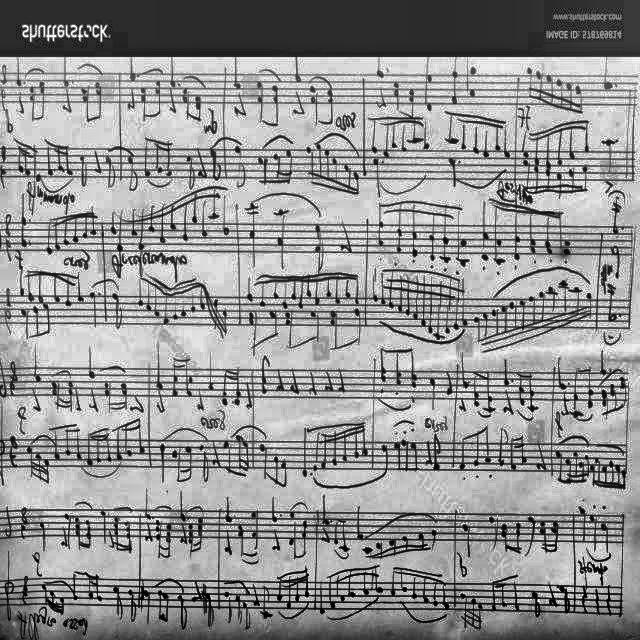Bass-clef: (3, 504, 13, 544), (0, 357, 4, 395)
Eighth-note: (176, 154, 197, 193), (374, 441, 391, 484), (294, 426, 308, 478), (598, 508, 612, 558), (230, 143, 247, 183), (110, 581, 124, 623), (102, 154, 118, 190), (252, 156, 272, 184), (75, 80, 88, 122), (124, 157, 140, 191), (573, 506, 587, 542), (590, 509, 602, 551), (314, 226, 326, 268), (570, 370, 582, 410), (24, 86, 36, 126), (526, 372, 538, 411), (313, 418, 321, 476), (481, 425, 492, 467), (509, 578, 519, 624), (257, 443, 269, 481), (210, 146, 224, 178), (20, 304, 32, 341), (223, 584, 233, 628), (352, 506, 363, 546), (354, 301, 364, 344), (328, 311, 340, 345), (498, 427, 508, 467), (247, 310, 257, 350), (271, 84, 281, 124), (390, 82, 406, 106), (434, 431, 442, 477), (38, 78, 46, 124), (225, 438, 235, 474), (398, 443, 410, 473), (553, 446, 563, 482), (393, 346, 402, 386), (457, 438, 468, 470), (80, 150, 88, 194), (95, 80, 103, 124), (378, 346, 387, 384), (70, 572, 80, 606), (342, 517, 350, 559), (41, 302, 50, 338), (332, 512, 340, 552), (114, 425, 122, 465), (484, 374, 492, 414), (585, 366, 593, 406), (326, 85, 334, 124), (259, 70, 265, 121), (232, 594, 240, 632), (72, 432, 82, 462), (128, 590, 136, 626), (491, 576, 497, 624), (472, 430, 480, 466), (260, 356, 268, 392), (472, 372, 480, 408), (618, 376, 626, 412), (32, 305, 40, 341), (284, 312, 292, 348), (155, 76, 161, 124), (500, 578, 508, 612), (533, 589, 541, 623), (178, 592, 184, 636), (308, 310, 318, 336), (244, 599, 252, 631), (518, 374, 526, 406), (112, 296, 120, 328), (182, 88, 190, 120), (408, 345, 414, 387), (562, 581, 568, 621), (64, 430, 72, 460), (271, 455, 279, 485), (576, 458, 584, 486), (269, 310, 277, 338), (600, 390, 608, 416), (406, 89, 414, 115), (411, 442, 417, 476), (565, 457, 571, 488), (585, 453, 591, 483), (612, 376, 616, 416), (282, 455, 286, 491), (198, 88, 202, 122), (157, 588, 161, 620), (166, 589, 170, 621), (396, 443, 400, 472), (574, 448, 578, 477), (57, 103, 59, 121)
Eighth-rest: (336, 219, 352, 257), (228, 96, 248, 124), (532, 438, 548, 472), (268, 531, 282, 565), (547, 575, 557, 621), (290, 86, 304, 118), (90, 146, 102, 182), (29, 389, 43, 419), (498, 391, 514, 417), (211, 440, 223, 474), (128, 394, 144, 418), (85, 386, 98, 414), (72, 385, 84, 415), (55, 526, 67, 554), (336, 372, 348, 400), (374, 84, 386, 112), (166, 87, 177, 117), (423, 440, 433, 472), (321, 370, 334, 394), (223, 530, 234, 558), (252, 584, 262, 614), (142, 522, 154, 546), (180, 522, 188, 558), (191, 582, 201, 610), (272, 371, 284, 393), (106, 527, 114, 557), (304, 374, 316, 394), (13, 90, 23, 114), (458, 395, 470, 413), (246, 383, 254, 409), (64, 90, 72, 116), (194, 394, 204, 414), (124, 94, 138, 108), (156, 392, 164, 416), (288, 372, 296, 396), (322, 530, 328, 546), (222, 526, 226, 526)
Full-rest: (206, 210, 222, 222)
Half-note: (612, 241, 620, 275), (606, 294, 614, 322)
Half-rest: (452, 255, 470, 265), (568, 411, 584, 422), (490, 253, 506, 263), (440, 253, 452, 263), (433, 329, 443, 339)
Quarter-note: (482, 514, 498, 556), (203, 586, 217, 630), (366, 158, 382, 195), (448, 60, 459, 110), (228, 61, 246, 91), (460, 512, 470, 560), (156, 442, 168, 482), (198, 442, 210, 482), (84, 340, 96, 380), (204, 350, 216, 390), (426, 370, 438, 410), (422, 60, 432, 108), (218, 498, 234, 526), (602, 59, 614, 95), (465, 60, 475, 102), (154, 340, 162, 392), (66, 508, 74, 558), (33, 342, 41, 386), (144, 590, 152, 630), (458, 356, 468, 388), (88, 290, 96, 330), (220, 196, 228, 236), (448, 156, 458, 188), (175, 496, 187, 520), (443, 370, 452, 402), (556, 358, 564, 394), (288, 61, 304, 79), (245, 277, 255, 303), (41, 516, 48, 552), (320, 497, 328, 527), (374, 58, 386, 78), (52, 432, 59, 464), (501, 358, 509, 386), (310, 91, 318, 119), (128, 58, 136, 86), (60, 61, 70, 83), (168, 58, 176, 84), (15, 60, 22, 88), (102, 502, 106, 550), (320, 579, 324, 625), (272, 501, 280, 524), (20, 272, 26, 298), (132, 74, 134, 78)
Quarter-rest: (574, 582, 590, 622), (597, 574, 603, 626), (607, 580, 613, 632)
Sixteenth-note: (368, 569, 382, 617), (526, 511, 538, 565), (356, 572, 370, 616), (38, 221, 56, 255), (518, 163, 534, 201), (326, 570, 338, 618), (408, 206, 419, 258), (252, 499, 260, 565), (341, 150, 353, 194), (323, 136, 333, 186), (349, 566, 359, 614), (399, 564, 411, 604), (498, 518, 510, 558), (393, 204, 403, 252), (380, 120, 392, 160), (560, 77, 574, 111), (484, 116, 494, 162), (427, 205, 435, 262), (550, 79, 562, 117), (368, 120, 382, 152), (556, 218, 568, 255), (100, 381, 114, 412), (437, 574, 449, 610), (239, 518, 247, 572), (419, 528, 437, 552), (86, 212, 98, 248), (564, 166, 576, 202), (290, 511, 298, 562), (304, 148, 316, 182), (468, 121, 480, 155), (170, 446, 180, 486), (508, 434, 518, 474), (274, 146, 284, 186), (59, 275, 72, 305), (540, 220, 552, 252), (299, 518, 309, 556), (455, 211, 465, 249), (395, 123, 405, 161), (76, 511, 84, 557), (442, 206, 450, 252), (512, 210, 520, 256), (268, 279, 282, 305), (444, 116, 456, 146), (566, 125, 578, 155), (541, 72, 551, 108), (340, 572, 348, 616), (156, 518, 164, 562), (376, 202, 384, 246), (164, 140, 172, 184), (48, 382, 62, 406), (182, 359, 190, 401), (137, 209, 145, 251), (480, 204, 486, 260), (494, 206, 501, 254), (539, 132, 551, 160), (318, 131, 324, 185), (422, 570, 430, 610), (542, 518, 550, 558), (113, 217, 123, 249), (144, 138, 152, 178), (156, 138, 164, 178), (578, 165, 590, 191), (284, 146, 292, 184), (410, 117, 418, 155), (124, 522, 132, 558), (124, 426, 132, 462), (234, 371, 242, 407), (220, 368, 228, 404), (148, 202, 156, 238), (45, 144, 53, 180), (55, 142, 63, 178), (458, 118, 467, 150), (390, 114, 396, 162), (288, 278, 298, 306), (420, 124, 430, 152), (125, 212, 137, 235), (390, 564, 398, 598), (118, 378, 126, 412), (297, 279, 305, 313), (352, 159, 360, 193), (188, 516, 194, 560), (517, 512, 523, 556), (517, 132, 529, 154), (590, 463, 598, 495), (36, 270, 44, 302), (258, 276, 266, 308), (156, 211, 164, 243), (198, 207, 206, 239), (491, 120, 499, 152), (600, 462, 608, 493), (550, 517, 558, 547), (138, 418, 144, 458), (526, 221, 534, 251), (26, 271, 34, 299), (72, 214, 80, 242), (545, 166, 553, 194), (582, 121, 590, 149), (576, 84, 584, 112), (412, 573, 418, 609), (86, 516, 92, 552), (197, 520, 203, 556), (56, 217, 62, 253), (536, 159, 542, 195), (434, 567, 438, 619), (400, 530, 408, 556), (280, 282, 288, 308), (324, 274, 332, 300), (332, 279, 340, 305), (166, 208, 174, 234), (554, 169, 562, 195), (528, 71, 536, 97), (614, 462, 620, 496), (182, 206, 188, 240), (66, 376, 72, 409), (86, 578, 94, 602), (388, 532, 396, 556), (419, 526, 427, 550), (237, 436, 243, 468), (52, 274, 58, 306), (305, 274, 311, 306), (534, 136, 542, 160), (188, 438, 192, 484), (174, 354, 178, 400), (364, 541, 374, 559), (75, 272, 81, 302), (314, 275, 320, 305), (114, 518, 118, 562), (377, 534, 383, 562), (244, 440, 250, 468), (82, 214, 88, 242), (334, 144, 338, 186), (166, 524, 170, 564), (610, 457, 614, 497), (520, 433, 524, 472), (351, 278, 357, 304), (64, 216, 68, 248), (68, 142, 72, 174), (98, 573, 102, 603), (622, 466, 626, 496), (502, 124, 506, 154), (560, 134, 564, 162), (344, 274, 348, 300), (192, 200, 196, 224), (114, 215, 118, 237), (596, 456, 598, 488), (538, 69, 540, 101), (551, 542, 553, 558)
Treble-clef: (4, 552, 20, 628), (0, 396, 8, 490)
